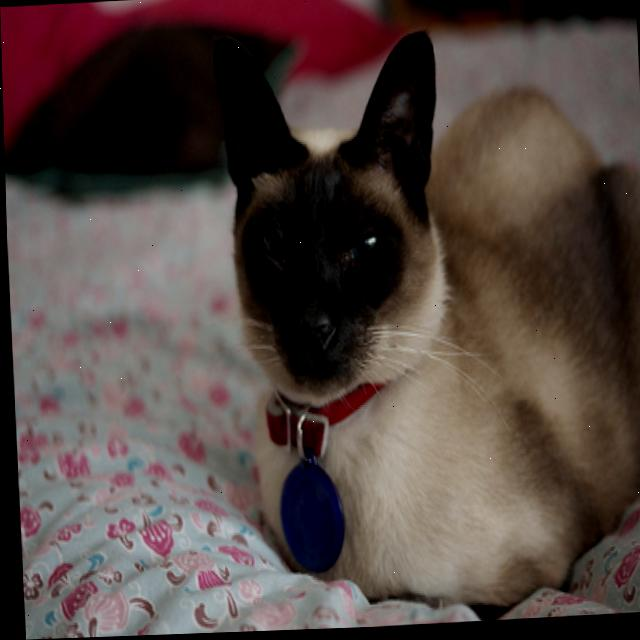Siamese: (206, 9, 640, 631)
